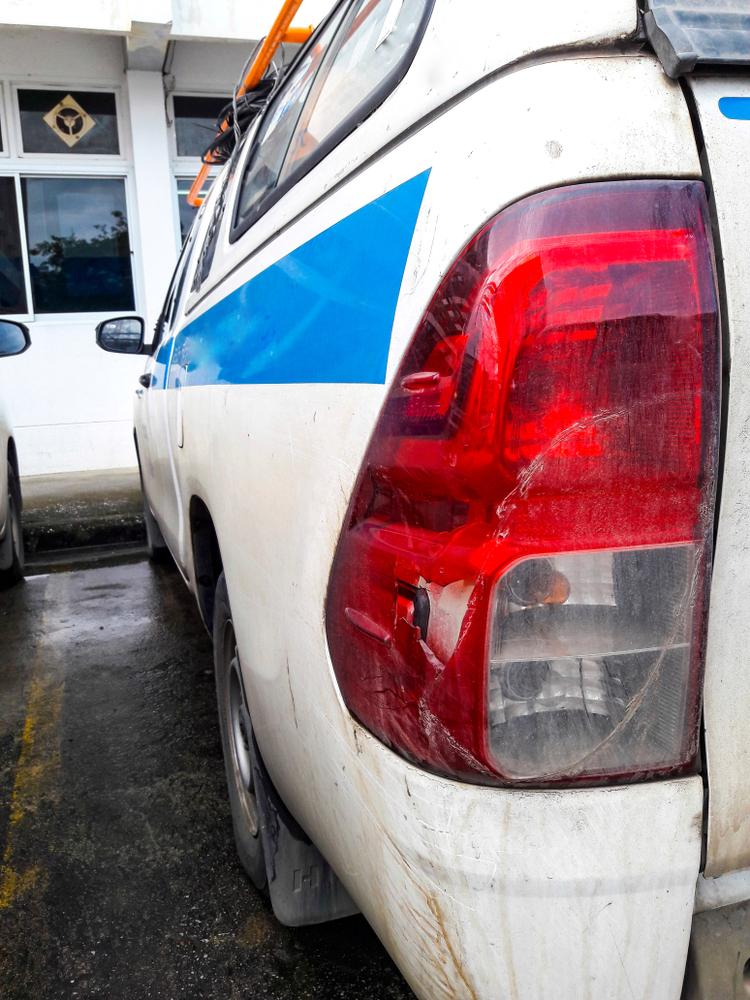lamp broken: (325, 177, 731, 789)
